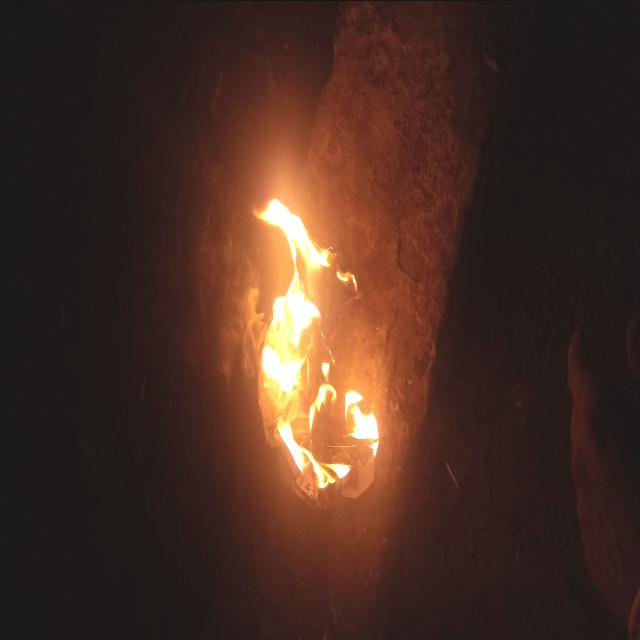firerotation: (243, 193, 379, 494)
